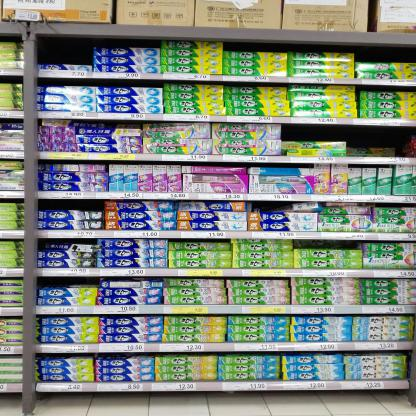Void: (34, 37, 92, 65), (37, 76, 159, 87), (356, 42, 413, 60), (352, 126, 403, 146), (225, 42, 349, 50), (283, 124, 347, 139), (296, 238, 357, 249), (98, 38, 162, 48), (40, 200, 101, 210), (38, 277, 98, 287), (255, 202, 291, 212)
